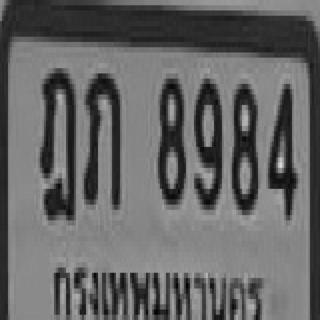A14: (40, 68, 76, 224)
A32: (82, 68, 122, 209)
N04: (268, 84, 296, 220)
N08: (157, 78, 185, 204), (232, 84, 258, 215)
N09: (194, 78, 222, 209)
P04: (47, 255, 264, 320)
